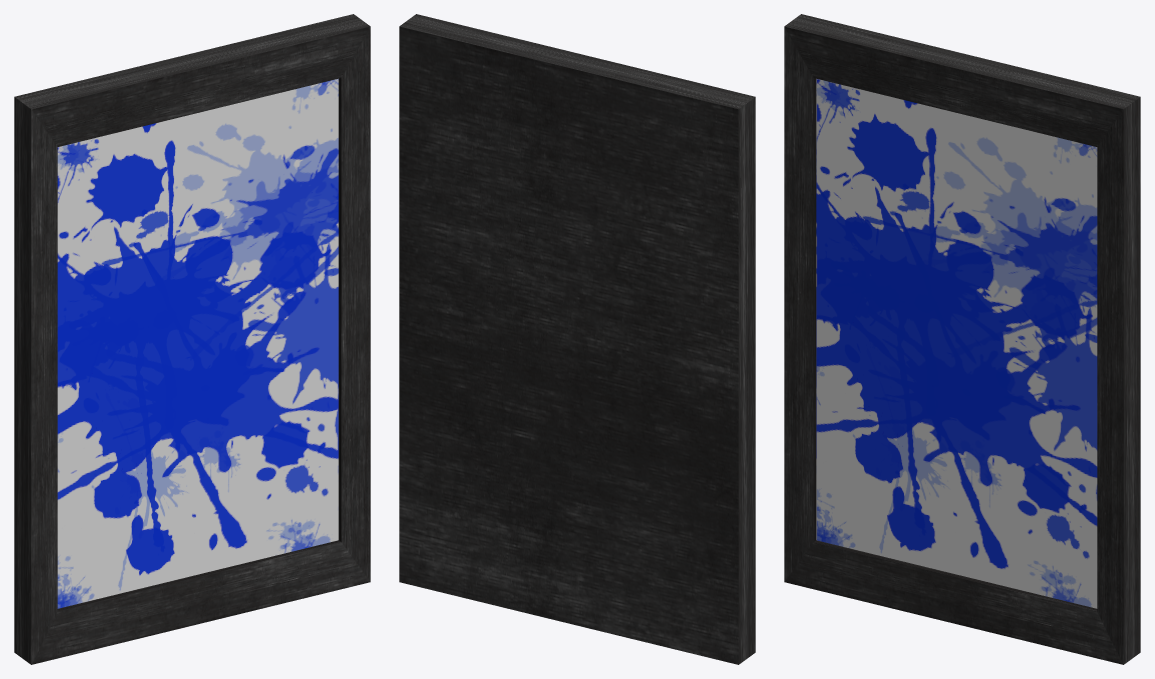
Rendered from painting_portrait_6.fbx.
3 renders of one model, left to right at view 1: azimuth 30°, elevation 25°; view 2: azimuth 150°, elevation 25°; view 3: azimuth 330°, elevation 25°, orthographic.
Parts seen in each view (by area): view 1: painting_Var1.001; view 2: painting_Var1.001; view 3: painting_Var1.001.
Part boxes in pixels (x1=…): painting_Var1.001: x1=14, y1=14, x2=370, y2=664; painting_Var1.001: x1=399, y1=14, x2=755, y2=664; painting_Var1.001: x1=784, y1=14, x2=1140, y2=664.
Bounding box in the file's own units: 59.07 × 92.39 × 5.15.
1 material, 1 textured.
